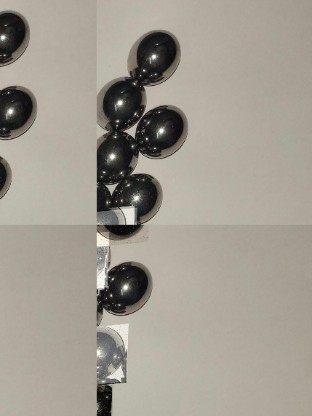ironball: (131, 28, 197, 90), (102, 258, 157, 325), (137, 103, 200, 160), (103, 173, 175, 216), (94, 126, 148, 178), (0, 81, 43, 143), (0, 6, 39, 70), (96, 78, 143, 128), (96, 326, 130, 389), (96, 224, 150, 249), (96, 233, 110, 294)
